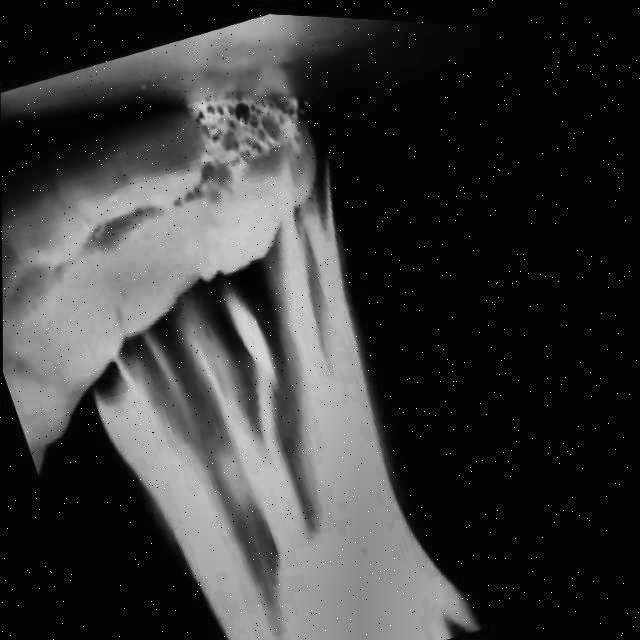Fire: (11, 81, 500, 640)
